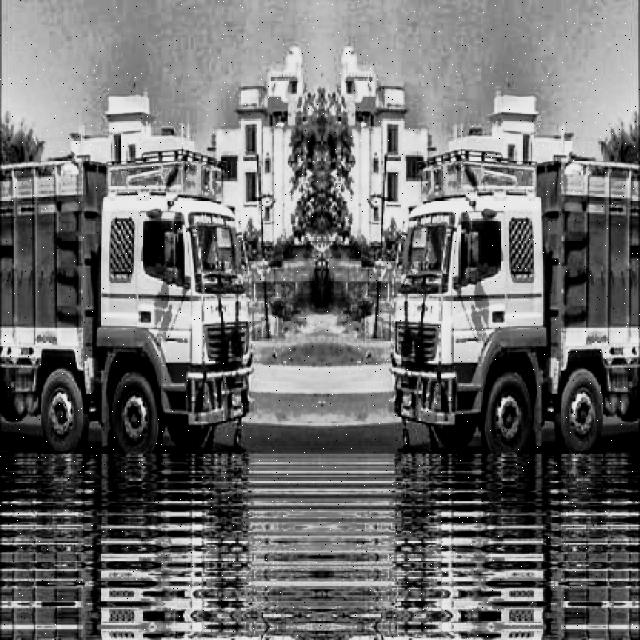HCV: (367, 139, 640, 442), (0, 143, 258, 439)
